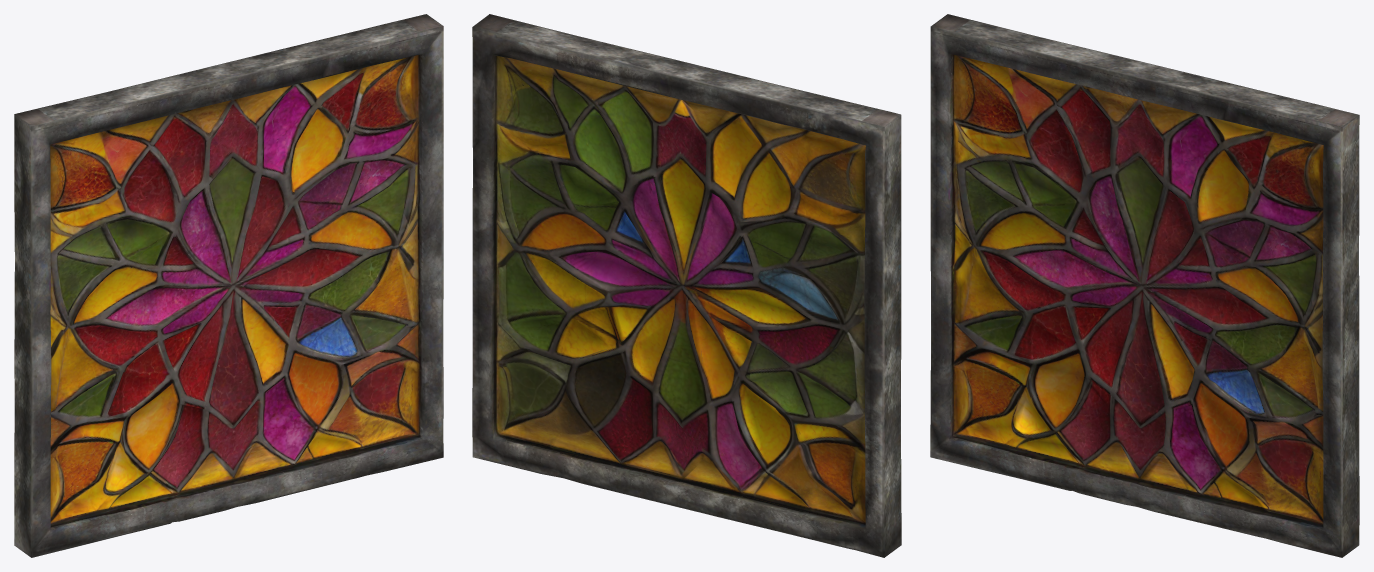
Rendered from testTile2.glb.
The picture shows the model from 3 angles, left to right: view 1: azimuth 30°, elevation 25°; view 2: azimuth 150°, elevation 25°; view 3: azimuth 330°, elevation 25°; orthographic projection.
Parts seen in each view (by area): view 1: Mesh_0; view 2: Mesh_0; view 3: Mesh_0.
Part boxes in pixels (left/top/right/bottom): Mesh_0: left=14, top=14, right=443, bottom=557; Mesh_0: left=472, top=14, right=901, bottom=557; Mesh_0: left=930, top=14, right=1359, bottom=557.
Size of the model in its own units: 1 by 1 by 0.073.
1 material, 1 textured.
